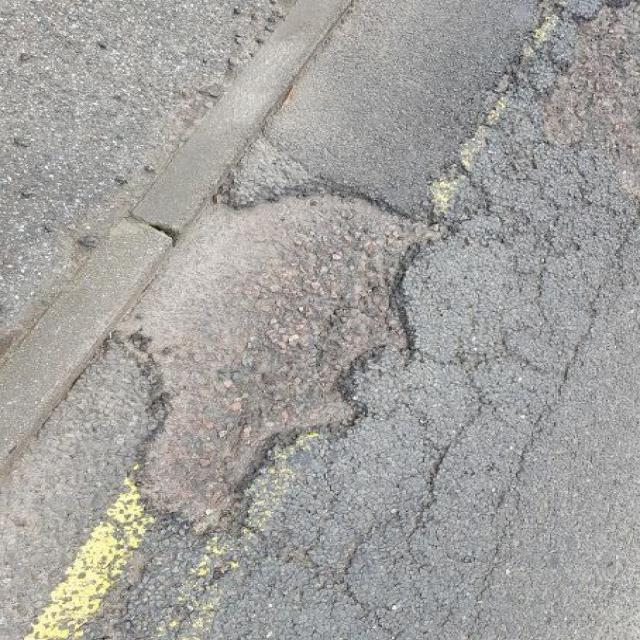pothole: (114, 172, 470, 546)
